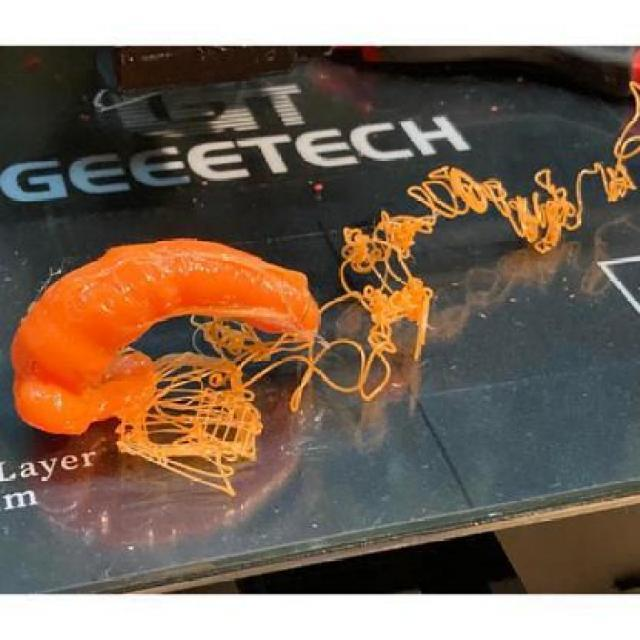spaghetti: (339, 79, 639, 358), (110, 314, 395, 498)
